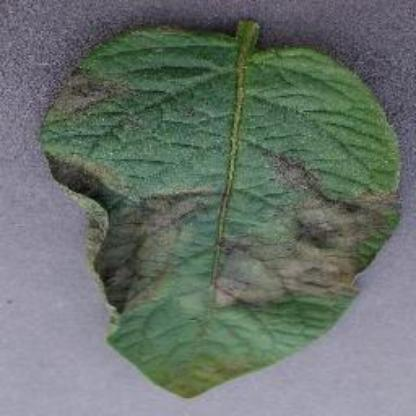Late-Blight: (48, 17, 390, 401)
